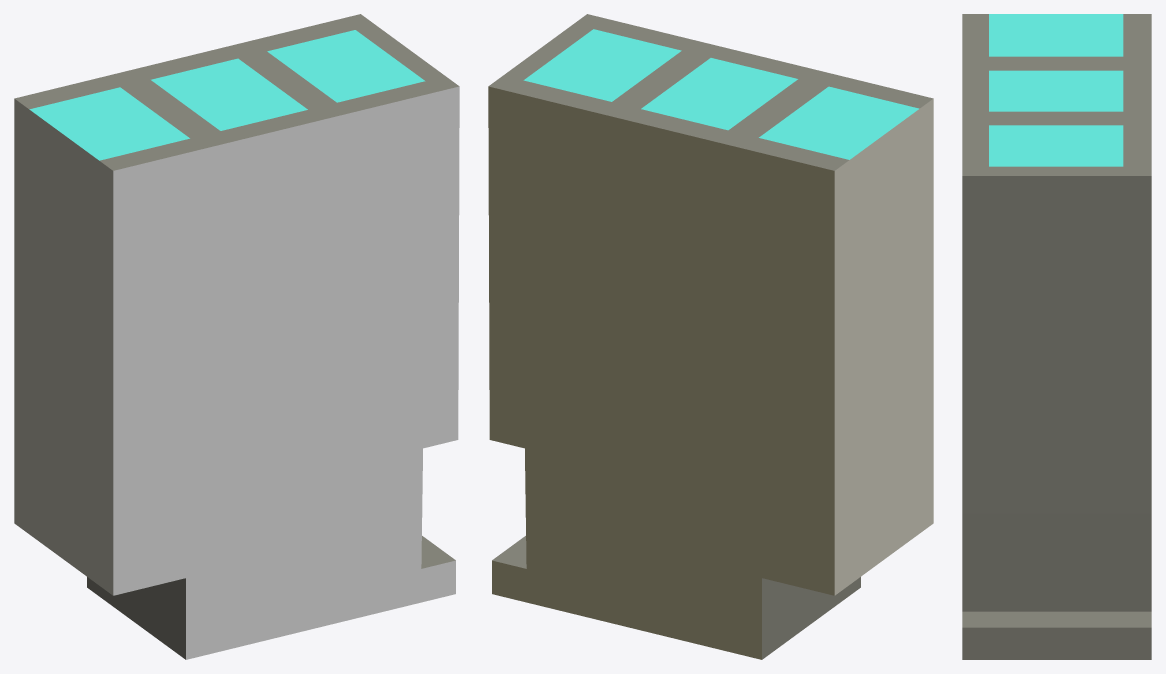
File: CR2_simplified.obj
3 renders of one model, left to right at view 1: azimuth 30°, elevation 25°; view 2: azimuth 150°, elevation 25°; view 3: azimuth 270°, elevation 25°, orthographic. The views are drawn at different scales.
Parts seen in each view (by area): view 1: obj19, obj16, obj13, obj8, obj2, obj7, obj9; view 2: obj14, obj16, obj13, obj8, obj2, obj7, obj9; view 3: obj15, obj4, obj13, obj12, obj8, obj2, obj7, obj3.
Boxes of the visible parts, left/top/right/bottom form: obj19: left=113, top=86, right=459, bottom=659; obj16: left=14, top=99, right=113, bottom=595; obj13: left=14, top=14, right=459, bottom=170; obj8: left=29, top=87, right=189, bottom=160; obj2: left=267, top=30, right=425, bottom=102; obj7: left=151, top=58, right=307, bottom=130; obj9: left=87, top=577, right=185, bottom=659; obj14: left=488, top=86, right=834, bottom=659; obj16: left=834, top=99, right=933, bottom=595; obj13: left=488, top=14, right=933, bottom=170; obj8: left=759, top=86, right=919, bottom=159; obj2: left=523, top=29, right=681, bottom=101; obj7: left=641, top=58, right=797, bottom=130; obj9: left=762, top=577, right=860, bottom=659; obj15: left=962, top=176, right=1151, bottom=513; obj4: left=962, top=513, right=1151, bottom=611; obj13: left=962, top=14, right=1151, bottom=175; obj12: left=962, top=627, right=1151, bottom=659; obj8: left=989, top=14, right=1123, bottom=56; obj2: left=989, top=125, right=1123, bottom=166; obj7: left=989, top=70, right=1123, bottom=111; obj3: left=962, top=611, right=1151, bottom=627.
Size of the model in its own units: 238 by 332 by 118.
